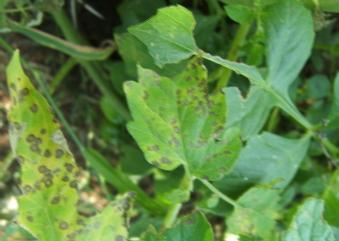Tomato Septoria leaf spot: (5, 59, 132, 241), (120, 56, 250, 186)
